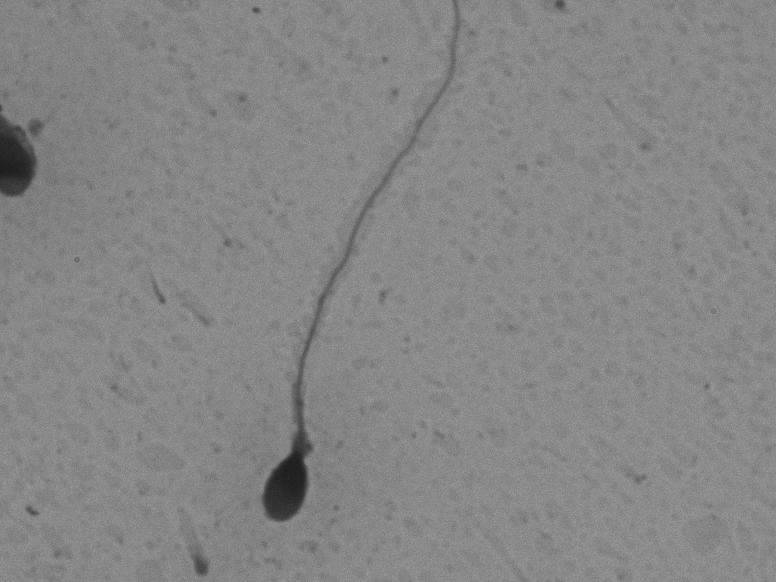Abnormal: (247, 5, 477, 551)
